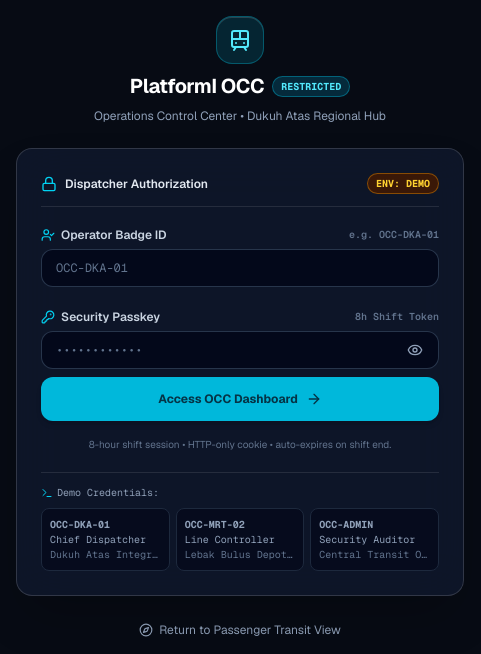
Test: Passkey humanity › toggles passkey visibility without clearing it
Step 1. Type "secret123" into the password field labelled "Security Passkey 8h Shift Token" → point(240, 350), box [41,331,439,369]
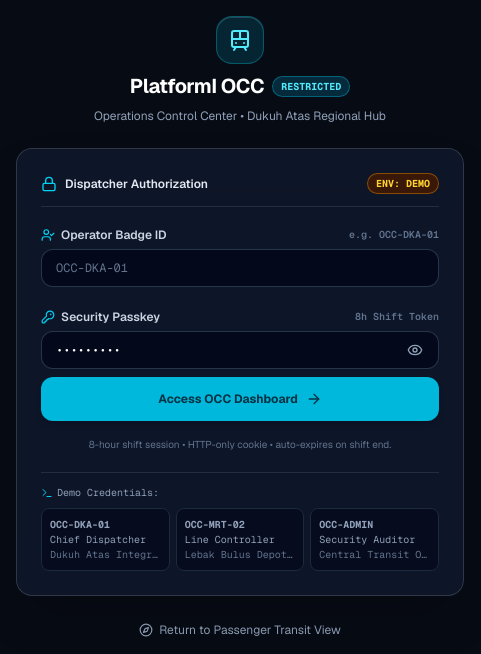
Step 2. Click the button named "show passkey" → point(415, 350), box [397,332,433,368]
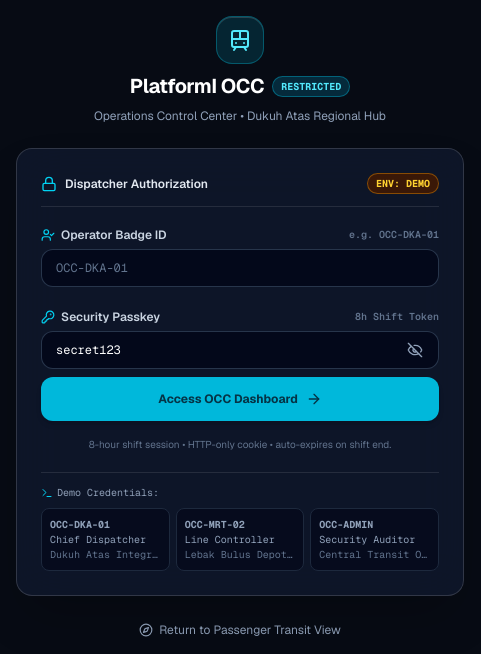
Now the field labelled "Security Passkey 8h Shift Token" shows its text, box [41,331,439,369]
Step 3. Click the button named "hide passkey" → point(415, 350), box [397,332,433,368]
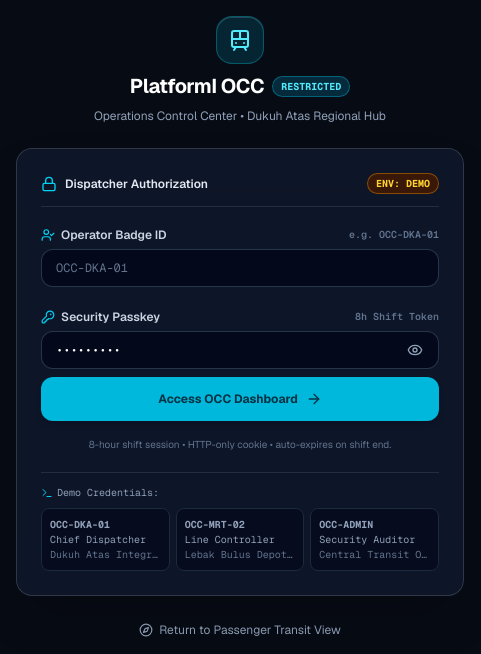
Now the password field labelled "Security Passkey 8h Shift Token" hides its text, box [41,331,439,369]
